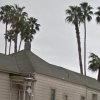Palm tree: (1, 2, 95, 51)
